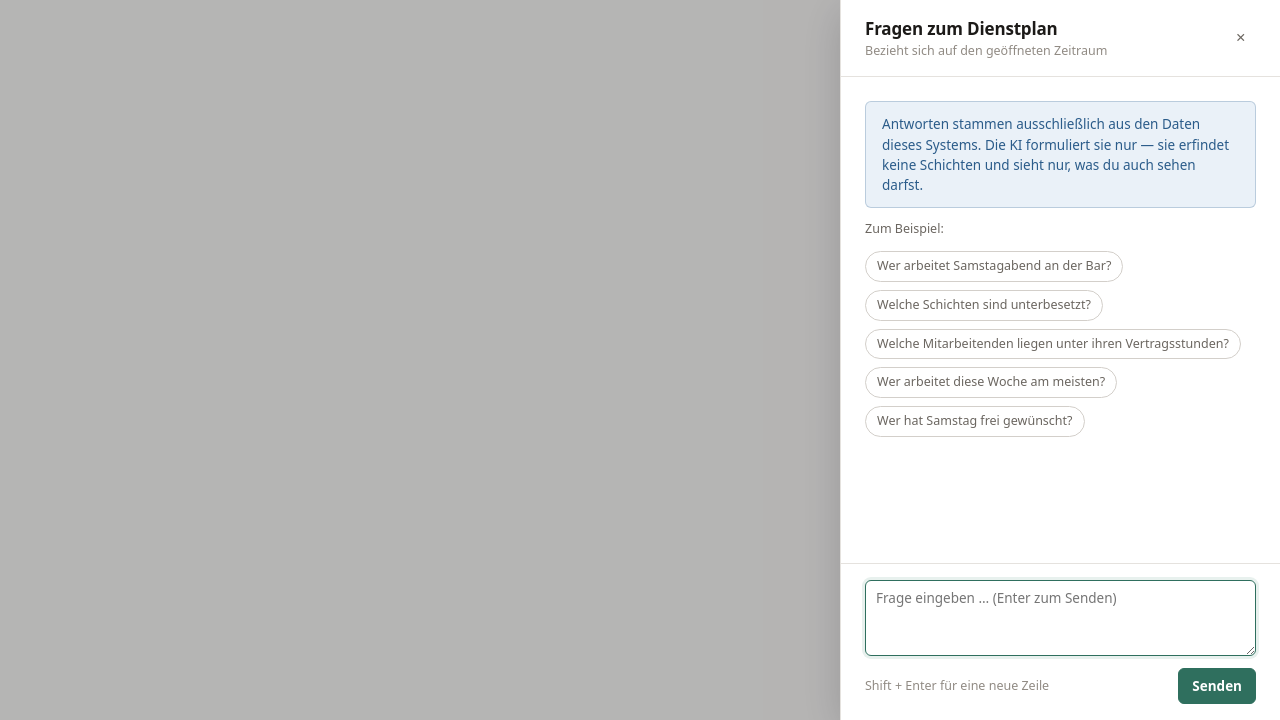
Test: ChatDrawer › sends the planning period from the URL so questions resolve to concrete dates
In the text box with placeholder "Frage eingeben … (Enter zum Senden)": (1060, 618) [865,580,1256,656], type "Wer arbeitet Samstag?"
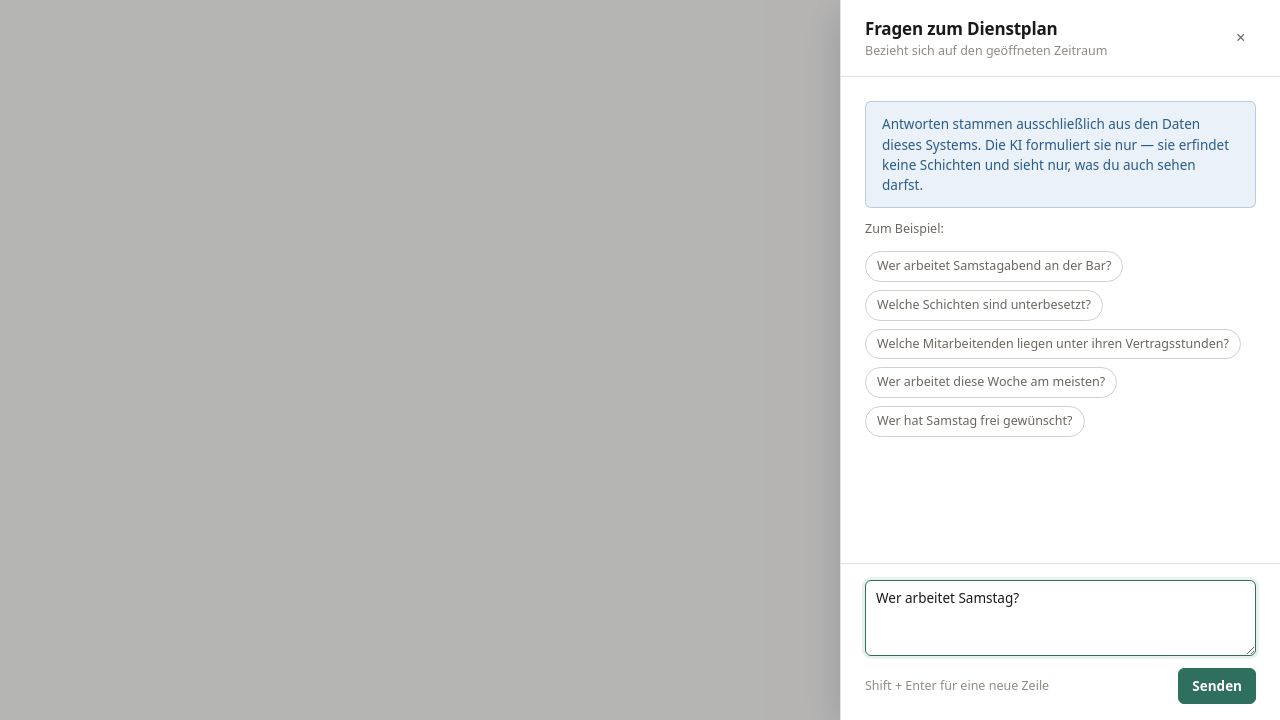
Click the button "Senden": (1217, 686) [1178,668,1256,704]
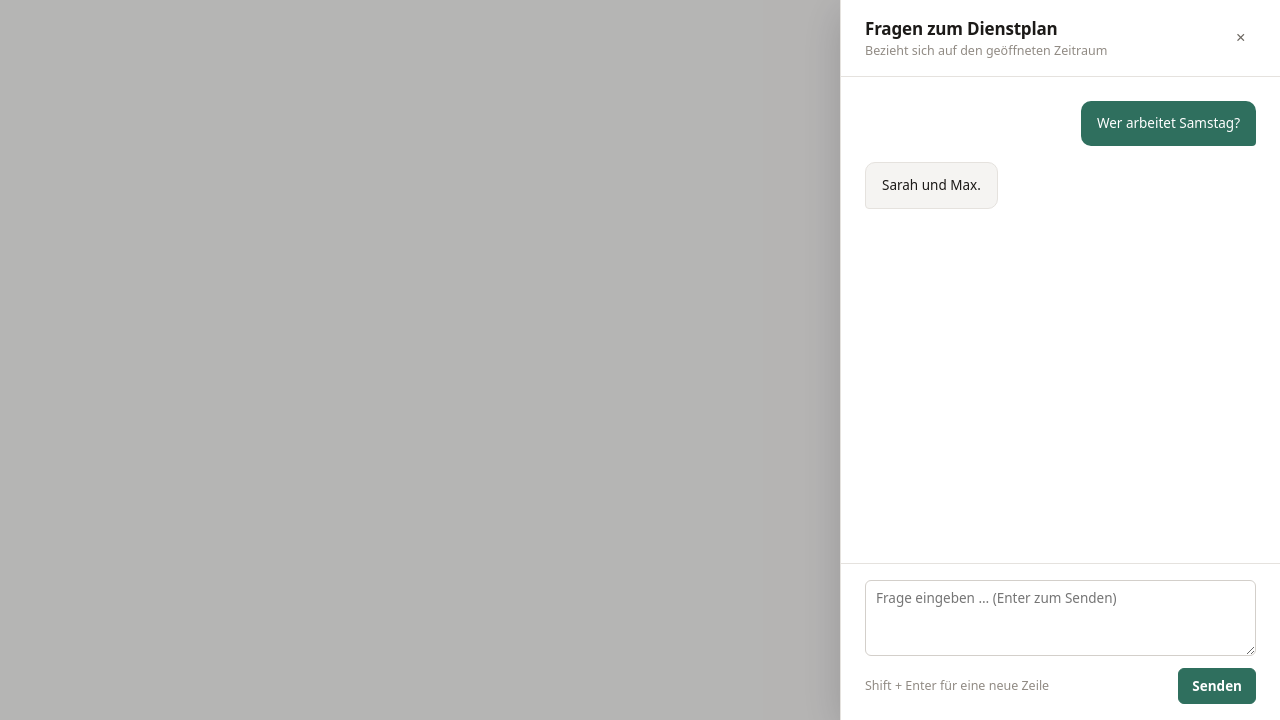
expect the text "Sarah und Max." is shown: met, box [865,162,998,209]
